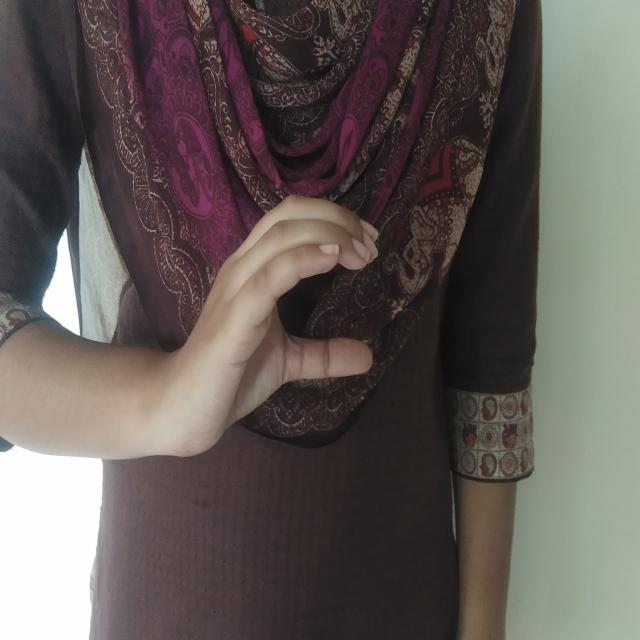c: (144, 188, 384, 468)
